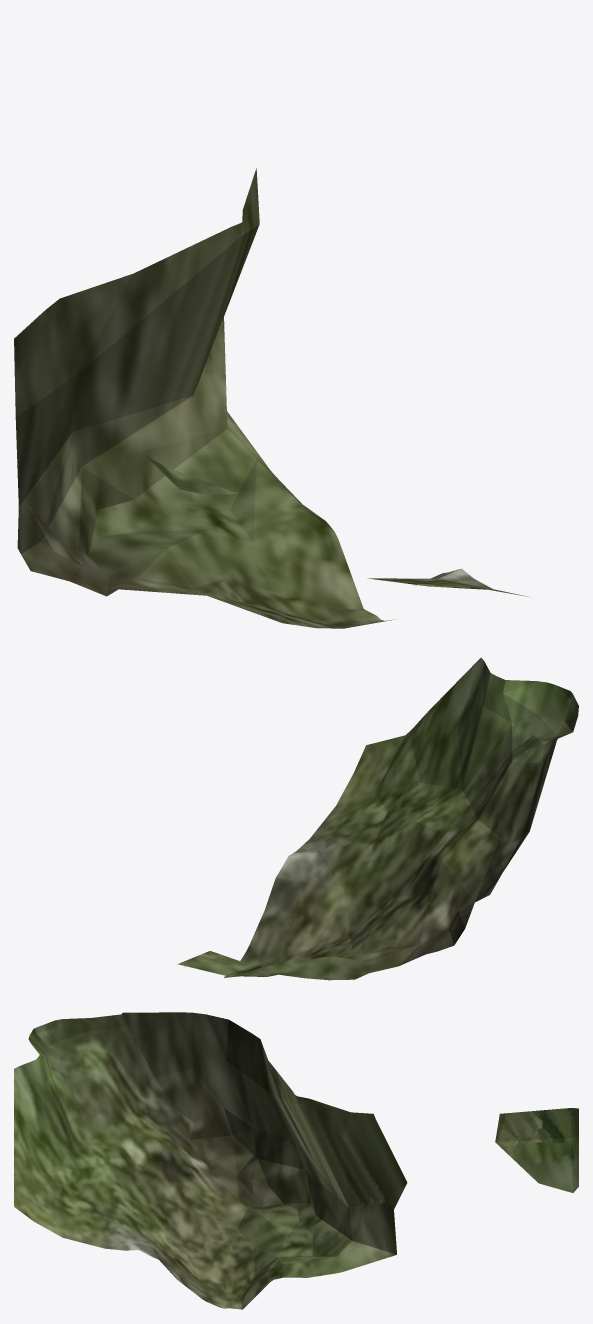
3 views of the same model, one above another, from view 1: azimuth 30°, elevation 25°; view 2: azimuth 150°, elevation 25°; view 3: azimuth 270°, elevation 25° (orthographic). The views are drawn at different scales.
Bounding box in the file's own units: 1.25 × 1.13 × 2.95.
Materials: 1 (1 with a texture image).
